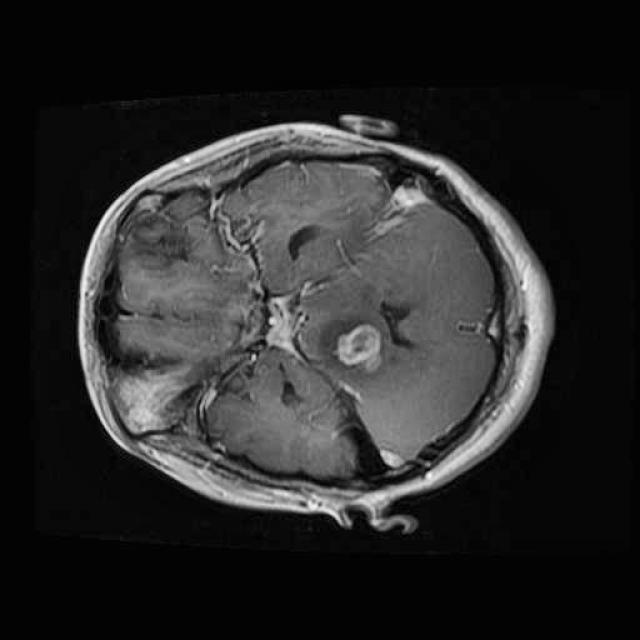Non-Tumor: (314, 306, 396, 385)
